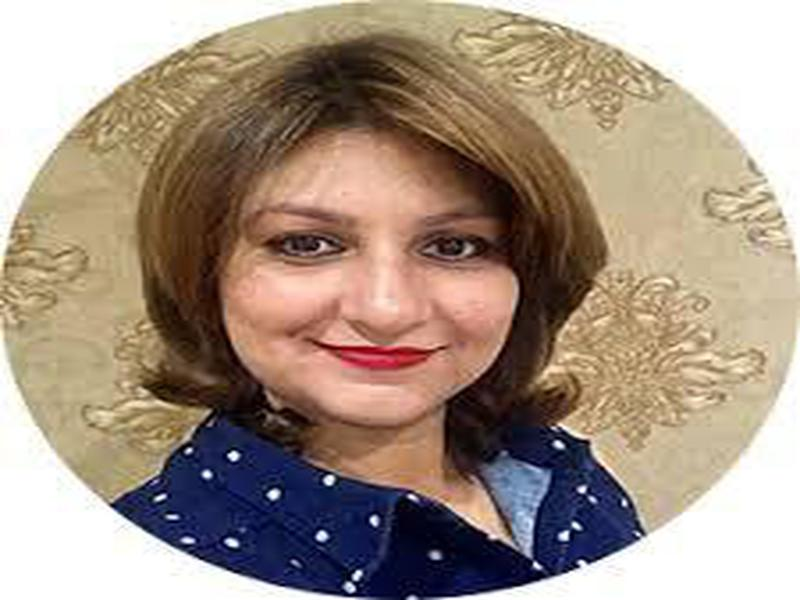without_mask: (221, 144, 523, 425)
